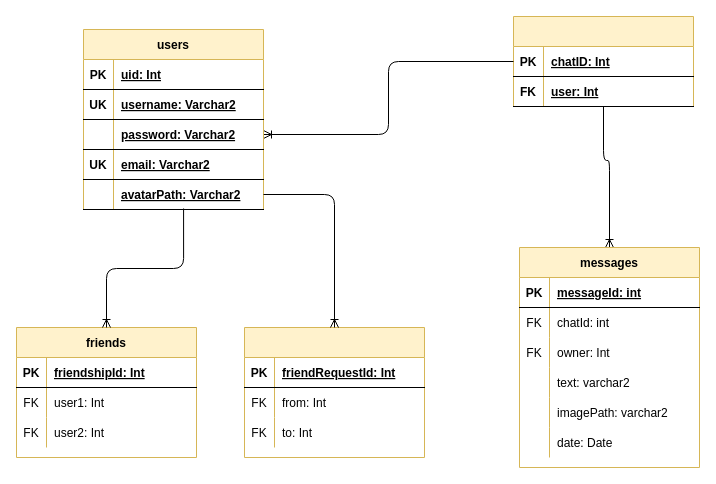
This 716x484 diagram has some shape labels left out. The box of each missing label's shape, as (x1, y1, x2, y2) in pixels:
chats: (512, 16, 694, 106)
friend_requests: (244, 326, 424, 458)
